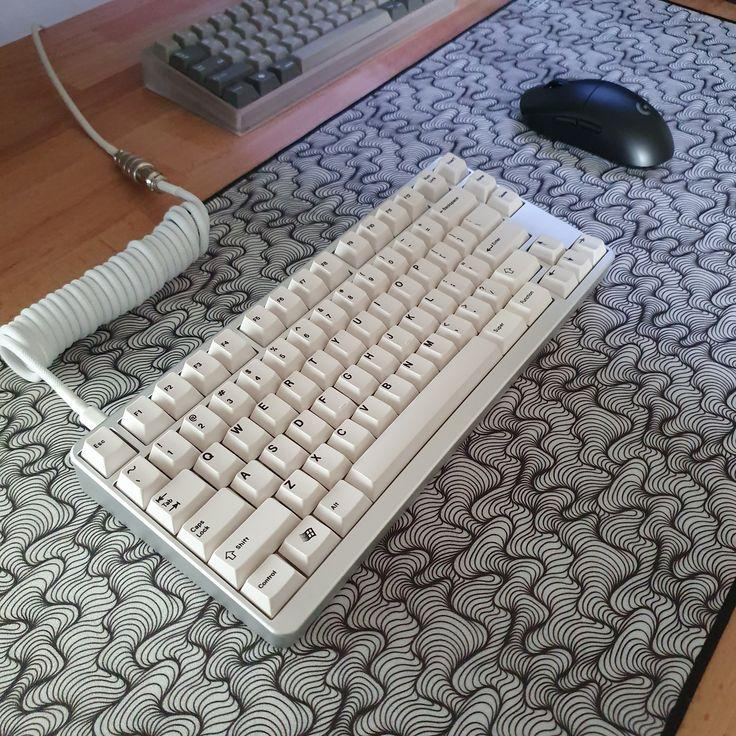keyboard: (67, 150, 616, 649)
